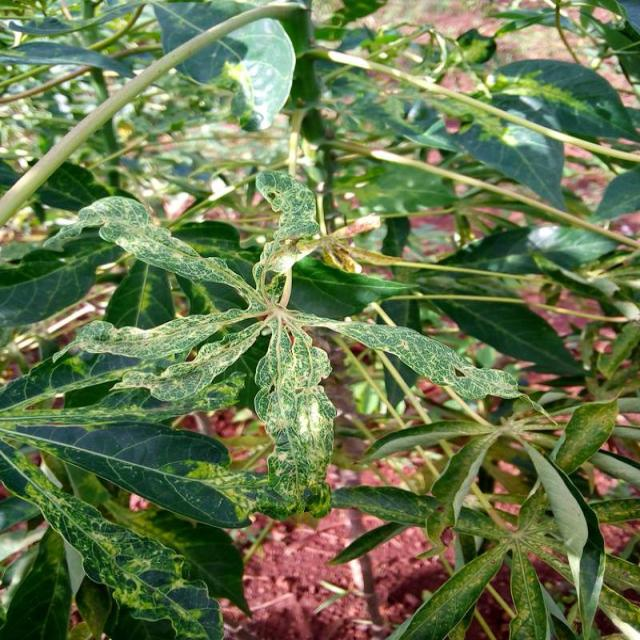cassava leaf: (2, 1, 638, 638), (153, 0, 298, 132)
